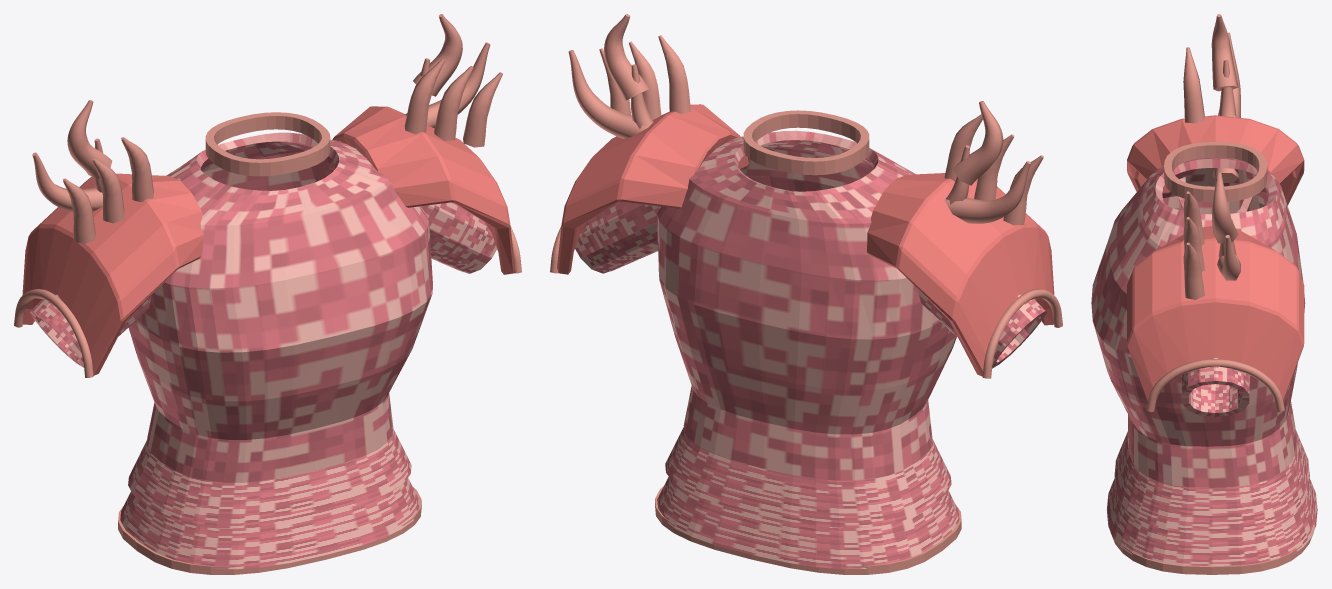
The model's file is coral_mail.obj.
The picture shows the model from 3 angles, left to right: view 1: azimuth 30°, elevation 25°; view 2: azimuth 150°, elevation 25°; view 3: azimuth 270°, elevation 25°; orthographic projection. The views are drawn at different scales.
Parts seen in each view (by area): view 1: A_Torso.001_coral_mail_body, K_CoralShoulderFan.001_coral_mail_shoulder_shell, D_Skirt0.001_coral_mail_body, D_Skirt1.001_coral_mail_body, F_Sleeve.001_coral_mail_body, B_NeckTrim.001_coral_mail_trim, K_CoralBranch2.001_coral_mail_trim, K_CoralBranch1.001_coral_mail_trim, K_CoralBranch0.001_coral_mail_trim, B_HemTrim.001_coral_mail_trim, K_CoralRim.001_coral_mail_trim, H_CoralBranch_-1_2.001_coral_mail_trim (+3 smaller); view 2: A_Torso.001_coral_mail_body, K_CoralShoulderFan.001_coral_mail_shoulder_shell, D_Skirt0.001_coral_mail_body, D_Skirt1.001_coral_mail_body, F_Sleeve.001_coral_mail_body, B_NeckTrim.001_coral_mail_trim, B_HemTrim.001_coral_mail_trim, K_CoralBranch0.001_coral_mail_trim, H_CoralBranch_1_1.001_coral_mail_trim, K_CoralBranch1.001_coral_mail_trim, H_CoralBranch_-1_1.001_coral_mail_trim, K_CoralRim.001_coral_mail_trim (+4 smaller); view 3: A_Torso.001_coral_mail_body, K_CoralShoulderFan.001_coral_mail_shoulder_shell, D_Skirt0.001_coral_mail_body, D_Skirt1.001_coral_mail_body, B_NeckTrim.001_coral_mail_trim, F_Sleeve.001_coral_mail_body, B_HemTrim.001_coral_mail_trim, K_CoralBranch0.001_coral_mail_trim, K_CoralRim.001_coral_mail_trim, H_CoralBranch_-1_2.001_coral_mail_trim, H_CoralBranch_1_2.001_coral_mail_trim, K_CoralBranch2.001_coral_mail_trim (+4 smaller).
Boxes of the visible parts, x1,y1,x2,y2 form: A_Torso.001_coral_mail_body: (128,132,432,482); K_CoralShoulderFan.001_coral_mail_shoulder_shell: (22,106,514,375); D_Skirt0.001_coral_mail_body: (128,429,411,528); D_Skirt1.001_coral_mail_body: (120,478,419,569); F_Sleeve.001_coral_mail_body: (30,202,496,367); B_NeckTrim.001_coral_mail_trim: (205,112,330,176); K_CoralBranch2.001_coral_mail_trim: (63,72,502,243); K_CoralBranch1.001_coral_mail_trim: (92,66,473,223); K_CoralBranch0.001_coral_mail_trim: (121,59,444,201); B_HemTrim.001_coral_mail_trim: (118,487,421,574); K_CoralRim.001_coral_mail_trim: (14,226,521,377); H_CoralBranch_-1_2.001_coral_mail_trim: (67,100,112,179); A_Torso.001_coral_mail_body: (657,130,956,480); K_CoralShoulderFan.001_coral_mail_shoulder_shell: (557,104,1054,376); D_Skirt0.001_coral_mail_body: (665,427,951,527); D_Skirt1.001_coral_mail_body: (657,477,959,569); F_Sleeve.001_coral_mail_body: (575,201,1046,368); B_NeckTrim.001_coral_mail_trim: (743,110,869,175); B_HemTrim.001_coral_mail_trim: (655,486,961,574); K_CoralBranch0.001_coral_mail_trim: (658,35,982,181); H_CoralBranch_1_1.001_coral_mail_trim: (568,50,648,138); K_CoralBranch1.001_coral_mail_trim: (629,41,1014,200); H_CoralBranch_-1_1.001_coral_mail_trim: (944,161,1030,223); K_CoralRim.001_coral_mail_trim: (550,226,1062,378); A_Torso.001_coral_mail_body: (1091,157,1305,487); K_CoralShoulderFan.001_coral_mail_shoulder_shell: (1127,115,1304,400); D_Skirt0.001_coral_mail_body: (1114,430,1309,531); D_Skirt1.001_coral_mail_body: (1107,478,1317,565); B_NeckTrim.001_coral_mail_trim: (1164,142,1267,202); F_Sleeve.001_coral_mail_body: (1178,177,1252,416); B_HemTrim.001_coral_mail_trim: (1110,532,1313,574); K_CoralBranch0.001_coral_mail_trim: (1183,48,1204,245); K_CoralRim.001_coral_mail_trim: (1146,359,1284,411); H_CoralBranch_-1_2.001_coral_mail_trim: (1211,14,1238,91); H_CoralBranch_1_2.001_coral_mail_trim: (1211,172,1238,243); K_CoralBranch2.001_coral_mail_trim: (1183,47,1204,299).
Bounding box in the file's own units: 2.84 × 2.7 × 1.31.
